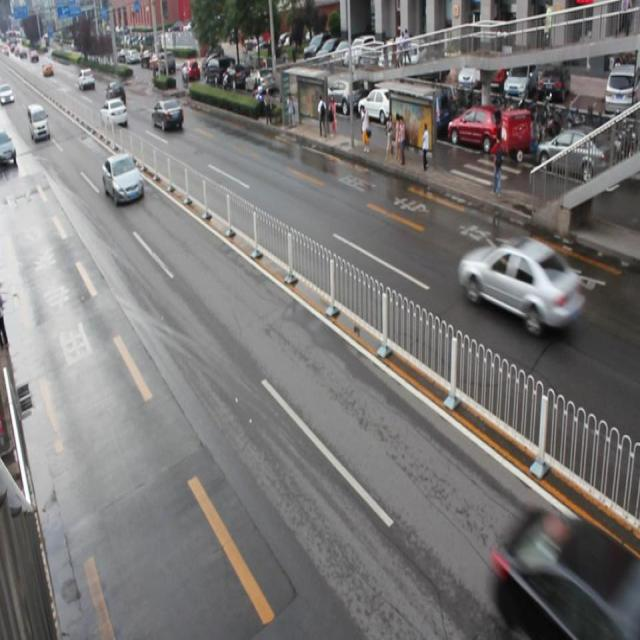car: (498, 506, 640, 640), (458, 236, 583, 329), (103, 150, 144, 204), (152, 97, 184, 132), (102, 96, 127, 128), (106, 80, 128, 112)
